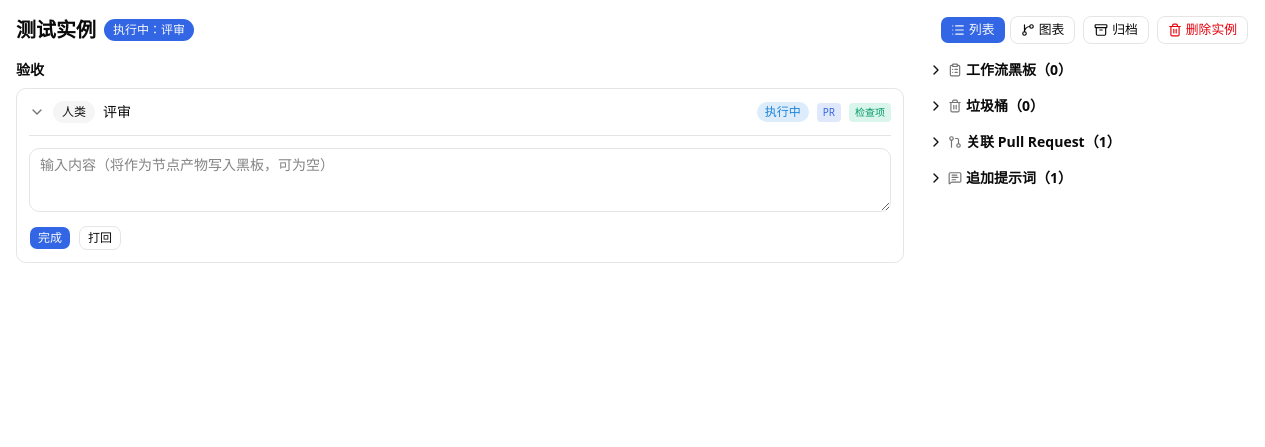
Scenario: WorkflowInstancePage 关联 Pull Request 与追加提示词 › 渲染两个只读区块并可展开查看内容
This screenshot has width=1265, height=447.
Click the button "关联 Pull Request（1）".
click(1024, 142)  # box x1=928 y1=132 x2=1121 y2=152
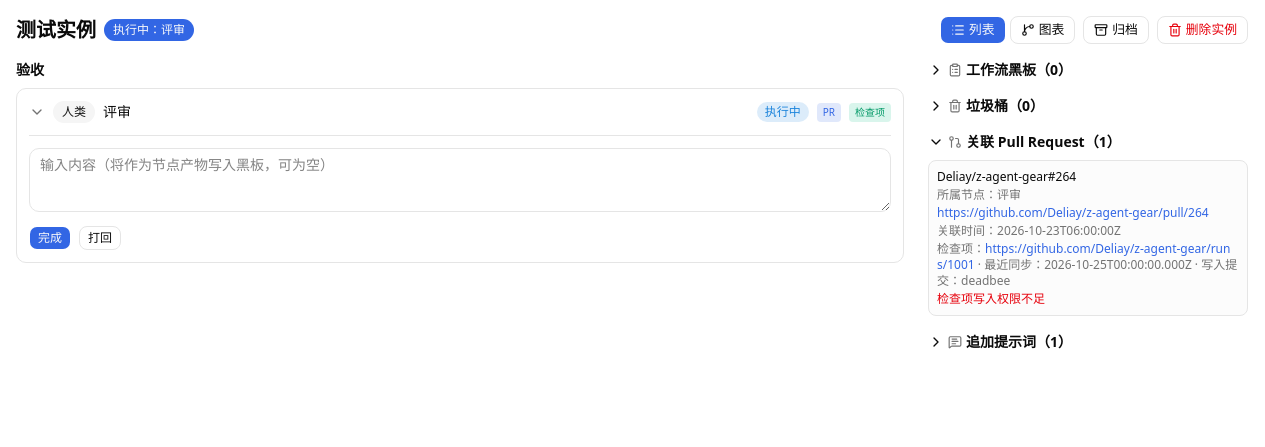
Expected: the text "Deliay/z-agent-gear#264" is shown, x1=937 y1=168 x2=1076 y2=185
Expected: the text "所属节点：评审" is shown, x1=937 y1=186 x2=1021 y2=203
Expected: the link "https://github.com/Deliay/z-agent-gear/runs/1001" is shown, x1=937 y1=240 x2=1230 y2=273
Click the button "追加提示词（1）".
click(1000, 342)  # box x1=928 y1=332 x2=1072 y2=352
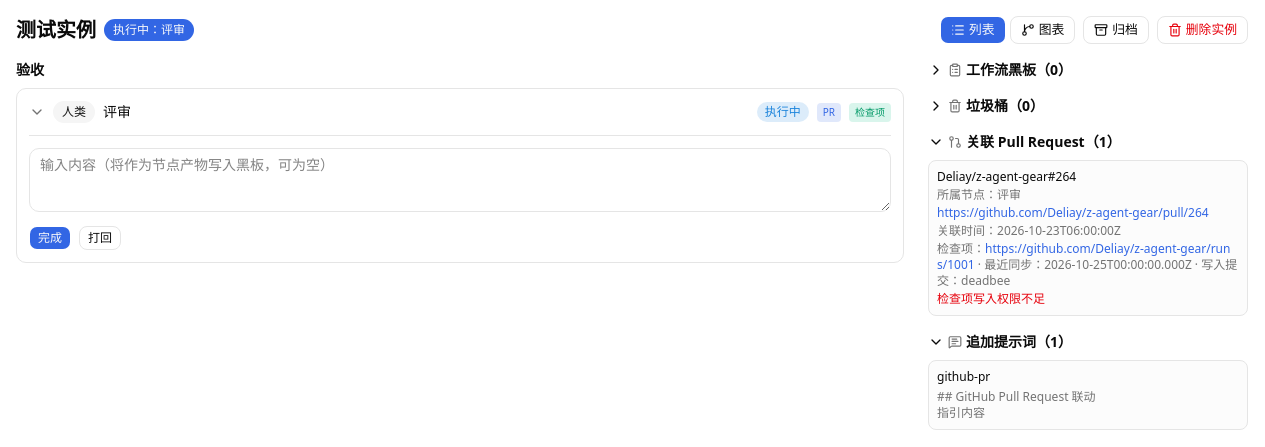
Expected: the text "github-pr" is shown, x1=937 y1=368 x2=990 y2=385
Expected: the text "## GitHub Pull Request 联动 指引内容" is shown, x1=937 y1=388 x2=1096 y2=421
